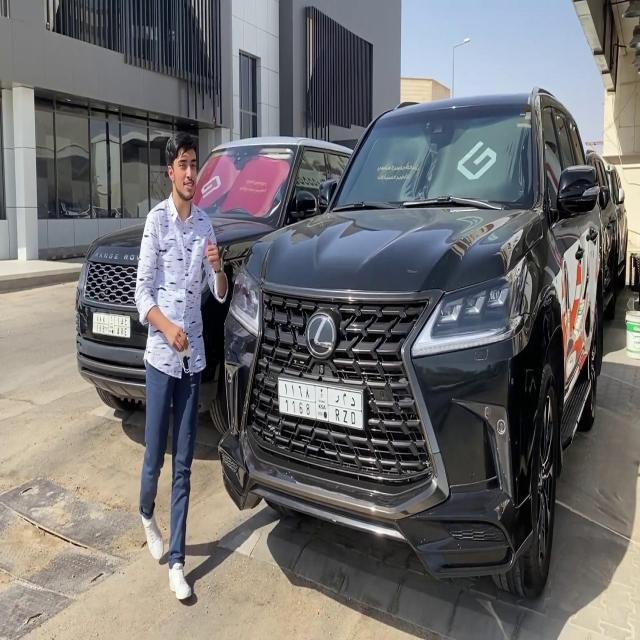license_plate: (274, 366, 366, 436), (90, 306, 133, 341)
